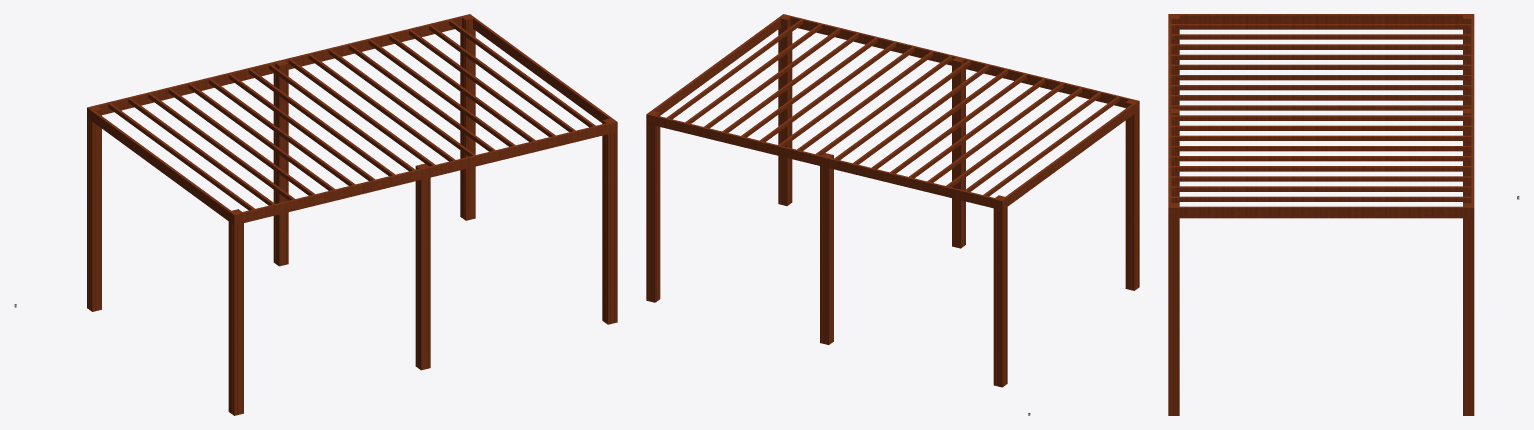
Rendered from 00_Wood Pergola-4x6-Mordern-M0624.gltf.
3 renders of one model, left to right at view 1: azimuth 30°, elevation 25°; view 2: azimuth 150°, elevation 25°; view 3: azimuth 270°, elevation 25°, orthographic. The views are drawn at different scales.
Visible parts, largest first — view 1: Generic_Models_Rafter-6x4-Solid_Wood_Pergola_Rafter-3920mm_- (×18), Generic_Models_Post-15x15x4-Hollow_Wood_Pergola_Post_3000mm_ (×6), Generic_Models_Beam-15x4-Solid_Wood_Pergola_Beam-6000mm_-_D0 (×2), Generic_Models_Beam-15x4-Solid_Wood_Pergola_Beam-4000mm_-_D0 (×2); view 2: Generic_Models_Rafter-6x4-Solid_Wood_Pergola_Rafter-3920mm_- (×18), Generic_Models_Post-15x15x4-Hollow_Wood_Pergola_Post_3000mm_ (×6), Generic_Models_Beam-15x4-Solid_Wood_Pergola_Beam-6000mm_-_D0 (×2), Generic_Models_Beam-15x4-Solid_Wood_Pergola_Beam-4000mm_-_D0 (×2); view 3: Generic_Models_Rafter-6x4-Solid_Wood_Pergola_Rafter-3920mm_- (×18), Generic_Models_Post-15x15x4-Hollow_Wood_Pergola_Post_3000mm_ (×6), Generic_Models_Beam-15x4-Solid_Wood_Pergola_Beam-4000mm_-_D0 (×2), Generic_Models_Beam-15x4-Solid_Wood_Pergola_Beam-6000mm_-_D0 (×2).
Part boxes in pixels (bbox=[...]): Generic_Models_Rafter-6x4-Solid_Wood_Pergola_Rafter-3920mm_- (×18): bbox=[108, 20, 595, 210]; Generic_Models_Post-15x15x4-Hollow_Wood_Pergola_Post_3000mm_ (×6): bbox=[87, 14, 617, 415]; Generic_Models_Beam-15x4-Solid_Wood_Pergola_Beam-6000mm_-_D0 (×2): bbox=[87, 14, 617, 225]; Generic_Models_Beam-15x4-Solid_Wood_Pergola_Beam-4000mm_-_D0 (×2): bbox=[88, 18, 611, 224]; Generic_Models_Rafter-6x4-Solid_Wood_Pergola_Rafter-3920mm_- (×18): bbox=[666, 19, 1119, 196]; Generic_Models_Post-15x15x4-Hollow_Wood_Pergola_Post_3000mm_ (×6): bbox=[646, 14, 1139, 387]; Generic_Models_Beam-15x4-Solid_Wood_Pergola_Beam-6000mm_-_D0 (×2): bbox=[648, 14, 1139, 209]; Generic_Models_Beam-15x4-Solid_Wood_Pergola_Beam-4000mm_-_D0 (×2): bbox=[646, 15, 1138, 210]; Generic_Models_Rafter-6x4-Solid_Wood_Pergola_Rafter-3920mm_- (×18): bbox=[1171, 24, 1471, 201]; Generic_Models_Post-15x15x4-Hollow_Wood_Pergola_Post_3000mm_ (×6): bbox=[1168, 14, 1474, 415]; Generic_Models_Beam-15x4-Solid_Wood_Pergola_Beam-4000mm_-_D0 (×2): bbox=[1168, 14, 1474, 218]; Generic_Models_Beam-15x4-Solid_Wood_Pergola_Beam-6000mm_-_D0 (×2): bbox=[1168, 19, 1474, 218].
Bounding box in the file's own units: 6.8 × 3.04 × 4.59.
Materials: 5 (1 with a texture image).
